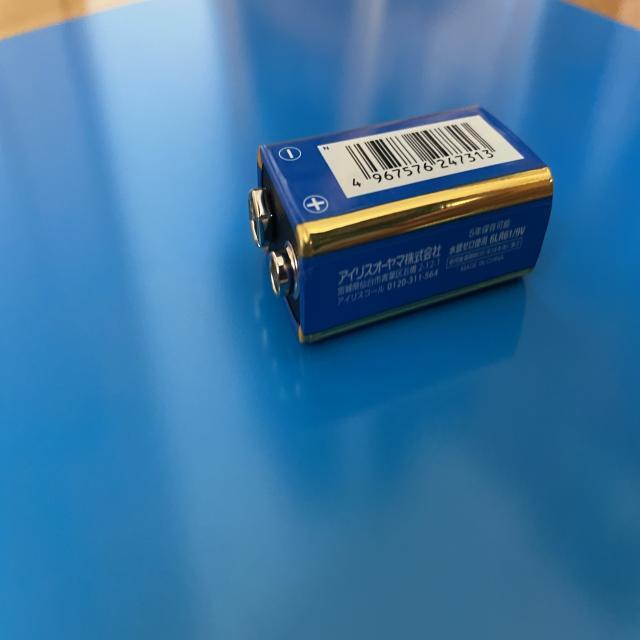9V: (247, 101, 558, 345)
